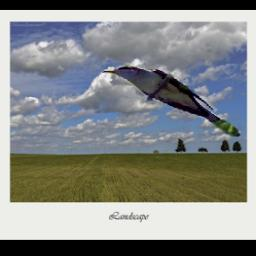Cuckoo: (103, 65, 242, 137)
